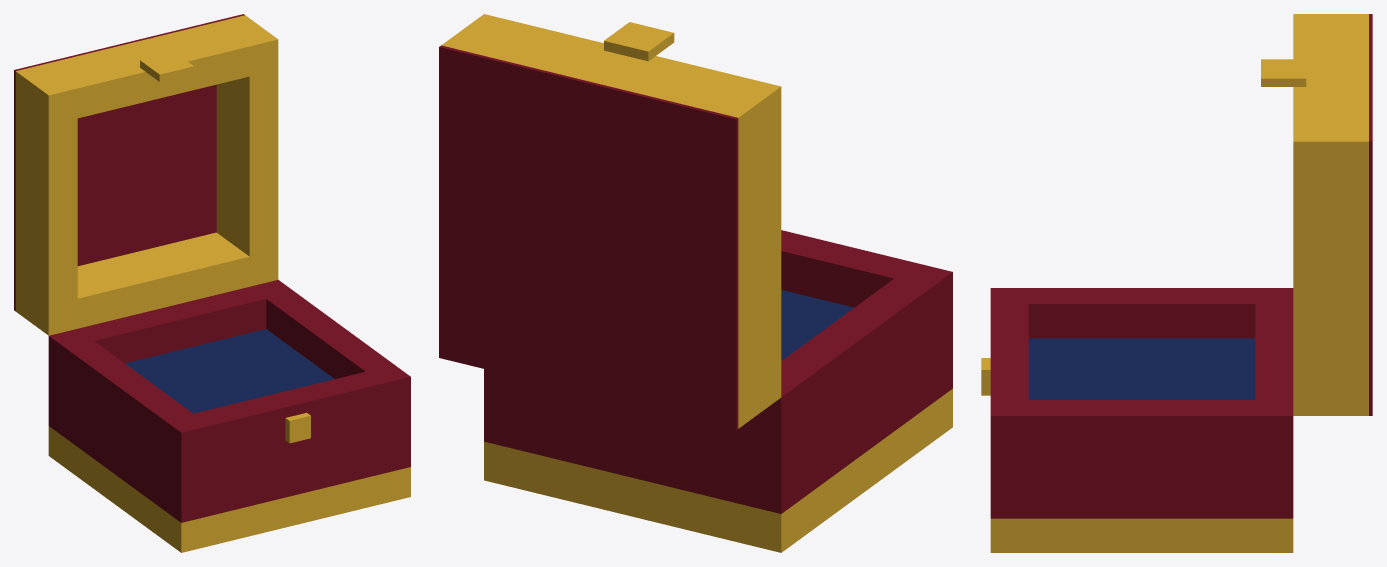
The model's file is hop-nhan-sang.glb.
3 renders of one model, left to right at view 1: azimuth 30°, elevation 25°; view 2: azimuth 150°, elevation 25°; view 3: azimuth 270°, elevation 25°, orthographic. The views are drawn at different scales.
Visible parts, largest first — view 1: hop-nhan-sang; view 2: hop-nhan-sang; view 3: hop-nhan-sang.
Boxes of the visible parts, x1,y1,x2,y2 form: hop-nhan-sang: (14, 14, 410, 552); hop-nhan-sang: (439, 14, 952, 552); hop-nhan-sang: (981, 14, 1372, 552).
Size of the model in its own units: 0.4571 by 0.7 by 0.5914.
